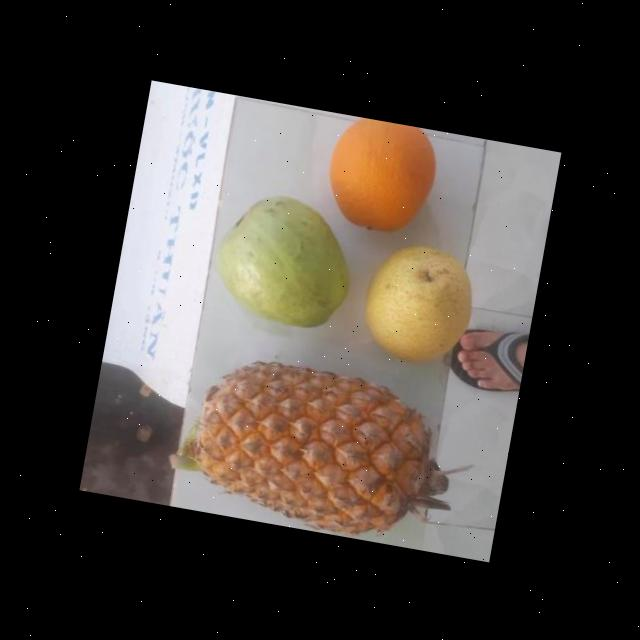guava: (210, 188, 362, 344)
orange: (318, 112, 442, 244)
pear: (356, 236, 481, 374)
pineapple: (186, 355, 442, 548)
